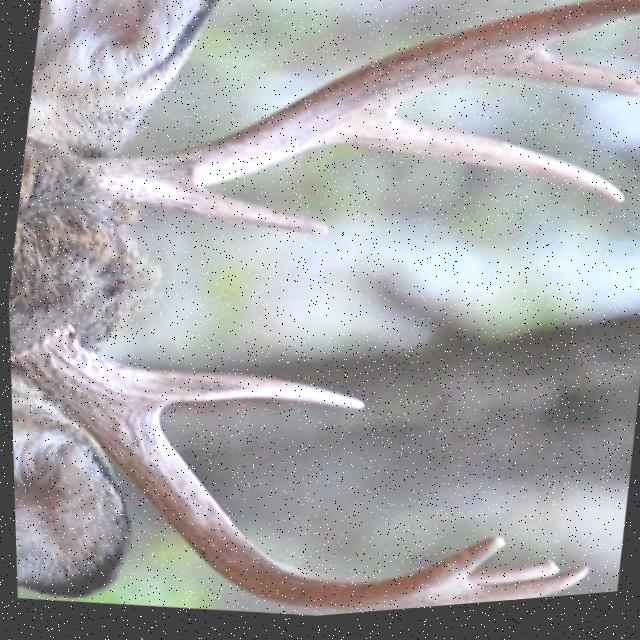E1: (457, 574, 588, 612)
L-F: (8, 325, 503, 616)
L-G1: (115, 362, 365, 420)
R-F: (68, 5, 640, 232)
R-G1: (154, 188, 330, 242)
R-G2: (329, 112, 626, 215)
